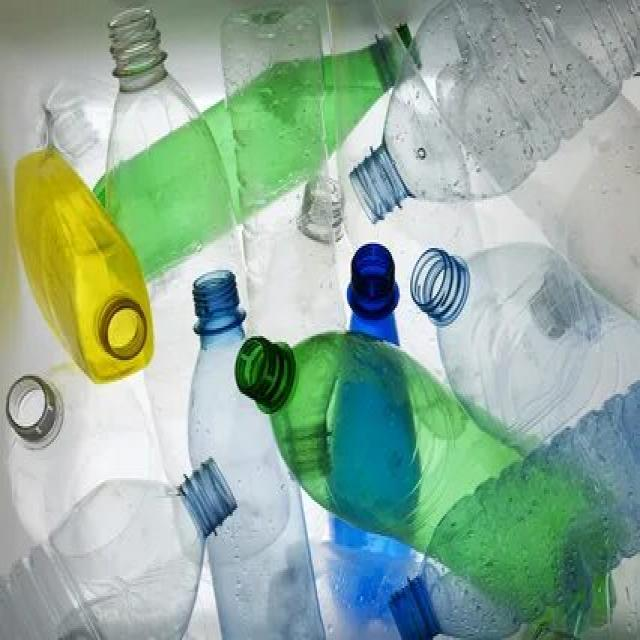blue: (351, 0, 640, 225), (187, 270, 327, 640)
green: (237, 333, 625, 640)
